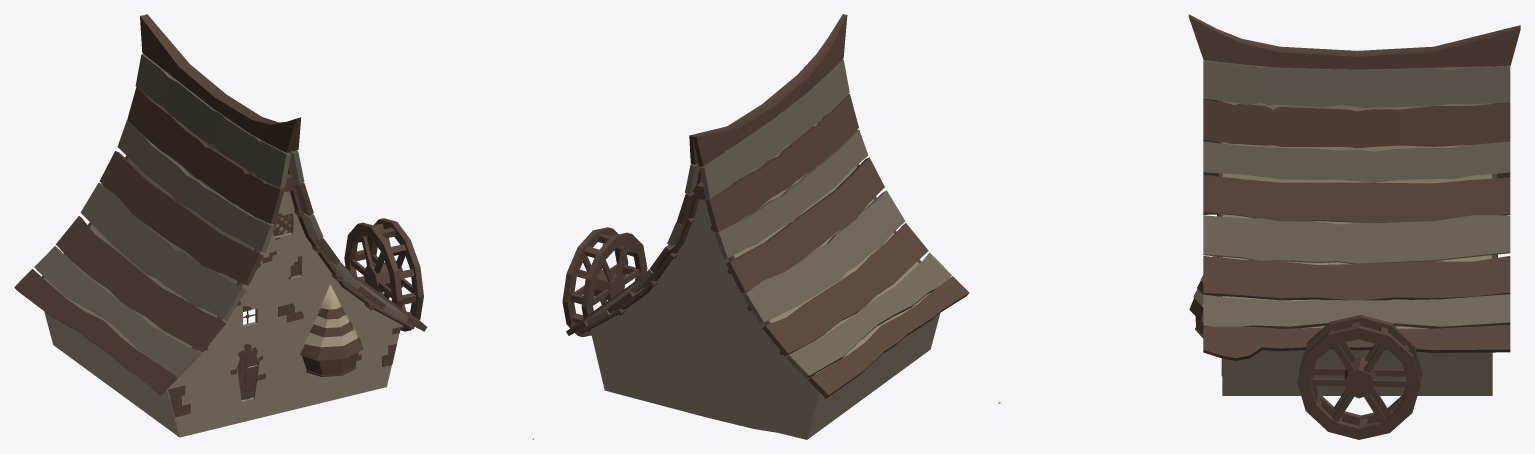
Rendered from Smallhouse.fbx.
3 renders of one model, left to right at view 1: azimuth 30°, elevation 25°; view 2: azimuth 150°, elevation 25°; view 3: azimuth 270°, elevation 25°, orthographic. The views are drawn at different scales.
Visible parts, largest first — view 1: pPlane283; view 2: pPlane283; view 3: pPlane283.
Boxes of the visible parts, left/top/right/bottom form: pPlane283: left=14, top=14, right=426, bottom=437; pPlane283: left=562, top=14, right=969, bottom=439; pPlane283: left=1188, top=14, right=1520, bottom=439.
Bounding box in the file's own units: 37.46 × 35.28 × 50.35.
